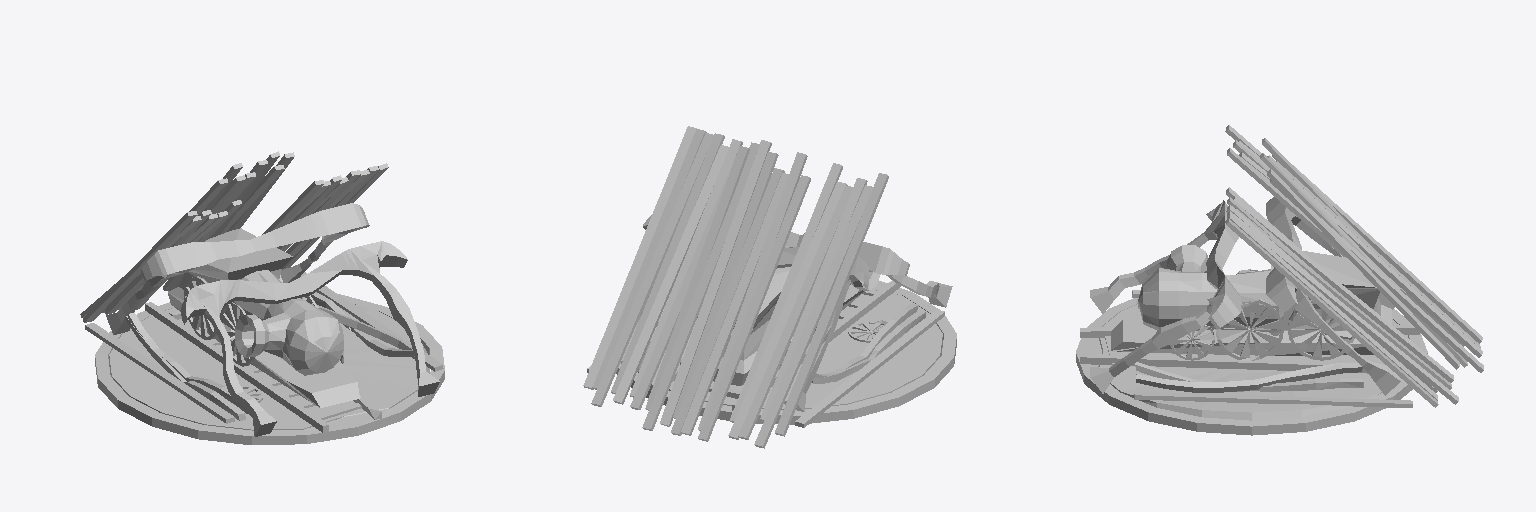
File: ghostWestern_tower_base_d3.obj
3 renders of one model, left to right at view 1: azimuth 30°, elevation 25°; view 2: azimuth 150°, elevation 25°; view 3: azimuth 270°, elevation 25°, orthographic.
Visible parts, largest first — view 1: Mesh, Mesh (2); view 2: Mesh (2), Mesh; view 3: Mesh, Mesh (2).
Boxes of the visible parts, box(x1,y1,x2,y2) form: Mesh: box(95, 203, 444, 444); Mesh (2): box(80, 151, 443, 423); Mesh (2): box(583, 126, 944, 448); Mesh: box(616, 215, 956, 424); Mesh: box(1076, 197, 1427, 435); Mesh (2): box(1132, 125, 1483, 407).
Bounding box in the file's own units: 7.18 × 4.82 × 8.33.